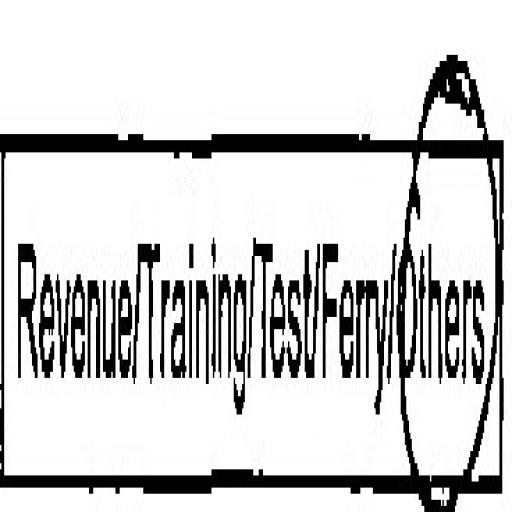check: (400, 9, 507, 512)
